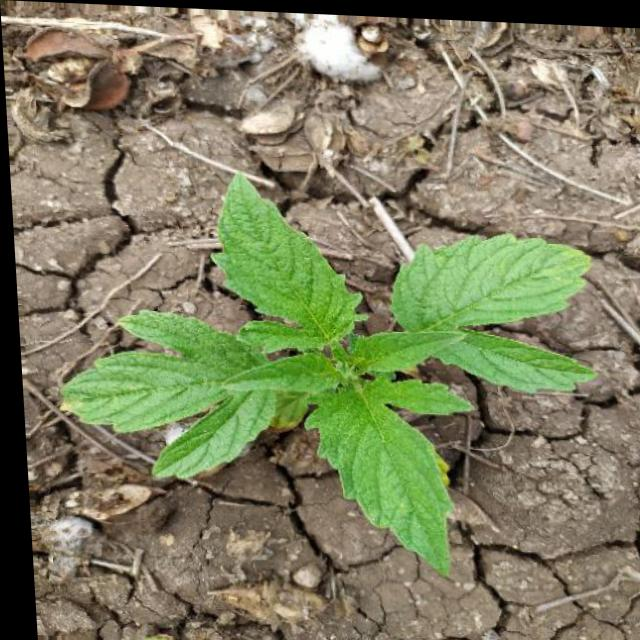crop: (42, 160, 603, 579)
